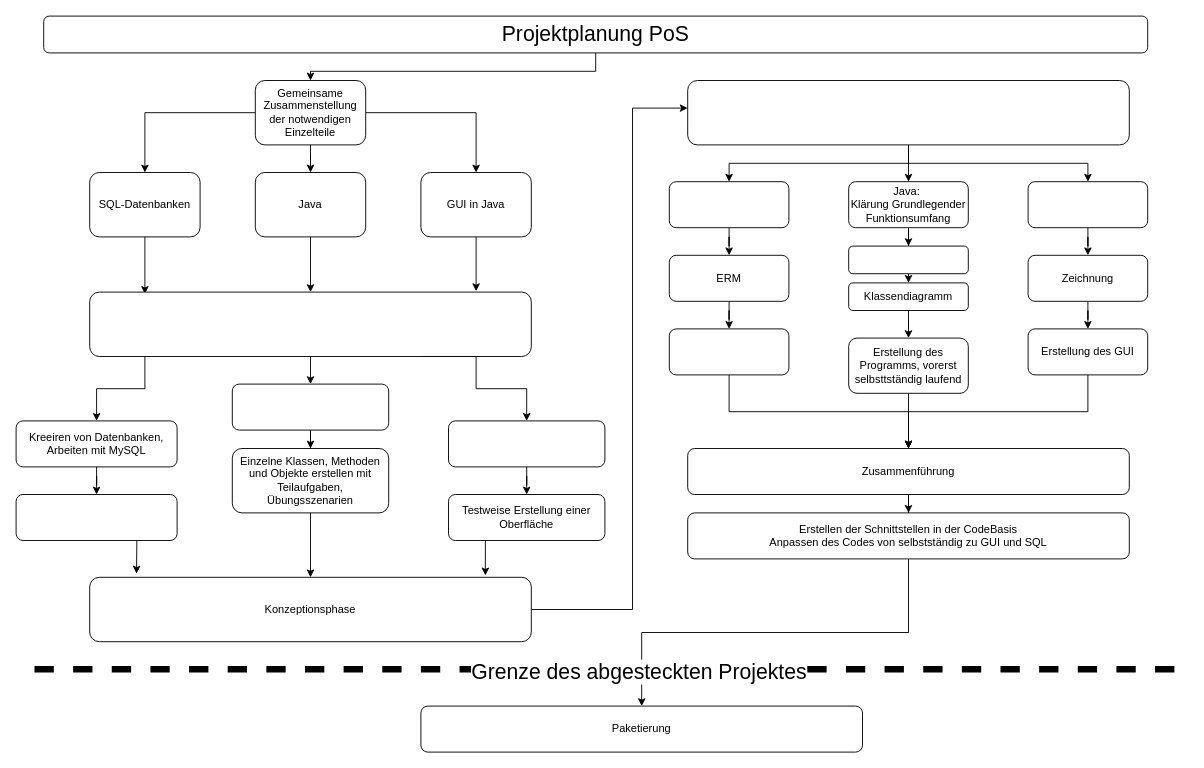
The diagram is 1204 pixels wide and 768 high, and some of its shapes have lost their labels. Each missing label, with the centre of its shape:
"Ablaufdiagramm" belongs at (908,259).
"Basics in Java, Objekte; Vererbung; Superklassen" belongs at (310,406).
"Erstellung der Datenbank/Einfügen der Daten" belongs at (728,351).
"Erstellung von ersten TestDatenbanken" belongs at (96,517).
"Erwerb von notwendigem Wissen zum Starten des jeweiligen Einzelteile" belongs at (310,323).
"GUI: Wie sollte die Oberfläche aussehen?" belongs at (1087,204).
"SQL: Welche Daten in welche Datenbanken" belongs at (728,204).
"Wie erstellt man eine GUI? Intellij? Swing? Tutorials?" belongs at (526,443).
"Wie sollten die Teilelemente aufgebaut sein um das Ziel zu erreichen?" belongs at (908,112).
